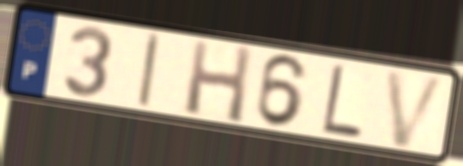3: (60, 23, 115, 100)
6: (254, 51, 309, 131)
H: (182, 37, 255, 127)
I: (135, 30, 163, 111)
L: (319, 60, 365, 141)
V: (382, 67, 451, 151)
